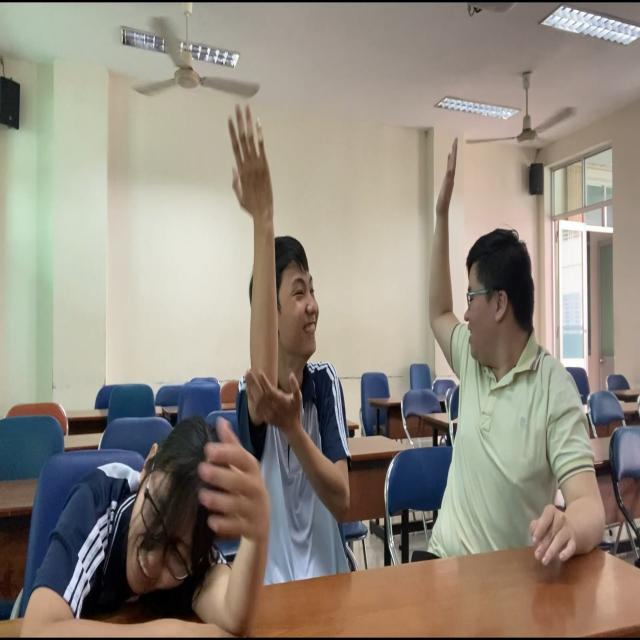raise_hand: (218, 77, 359, 537)
